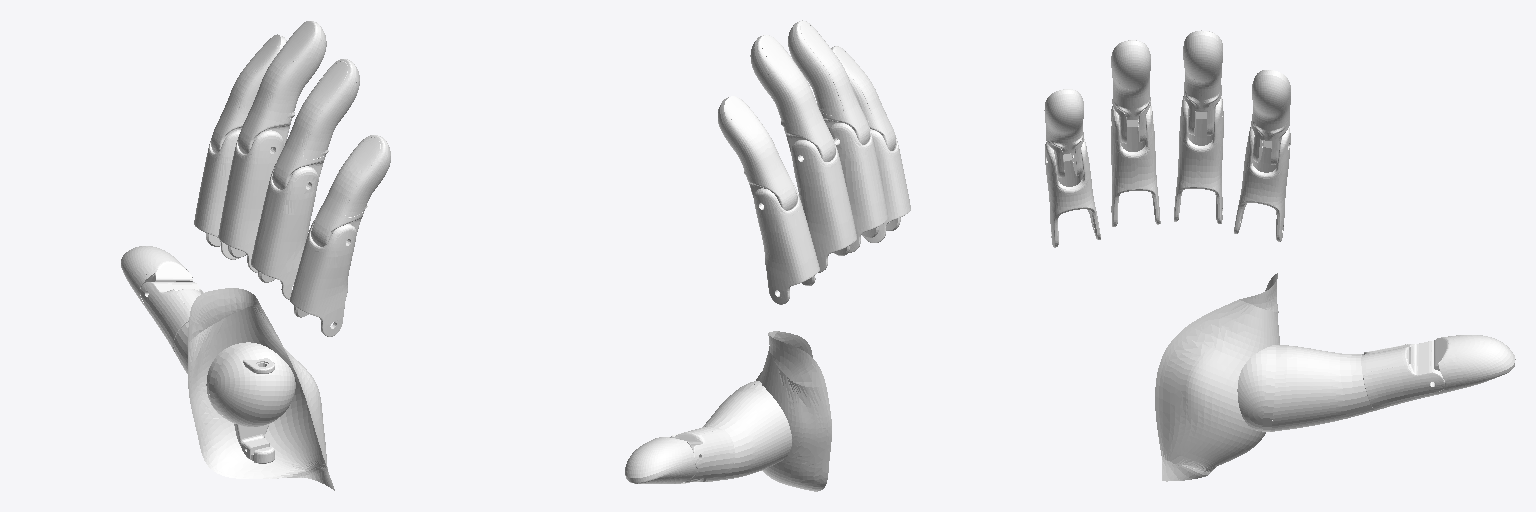
URDF robot description (brainco_revo2_righthand_urdf):
<robot name="brainco_revo2_righthand_urdf">
  <link name="right_base_link">
    <inertial>
      <origin xyz="-0.0052437813922142 -0.00340380255263376 0.0521266765719498" rpy="0 0 0" />
      <mass value="0.238" />
      <inertia ixx="2.10911666669912E-05" ixy="3.86322047662032E-08" ixz="9.36399145709391E-08" iyy="1.44621914759073E-05" iyz="-1.09576502000447E-06" izz="7.99811499549963E-06" />
    </inertial>
    <visual>
      <origin xyz="0 0 0" rpy="0 0 0" />
      <geometry>
        <mesh filename="../meshes/right_base_link.obj" />
      </geometry>
      <material name="">
        <color rgba="1 1 1 1" />
      </material>
    </visual>
  <visual>
      <origin xyz="0 0 0" rpy="0 0 0" />
      <geometry>
        <mesh filename="../meshes/right_base_visual_link.obj" />
      </geometry>
      <material name="">
        <color rgba="1 1 1 1" />
      </material>
    </visual>
    <collision><geometry><mesh filename="../meshes/right_base_link.obj" />
      </geometry></collision></link>
  <link name="right_thumb_metacarpal_link">
    <inertial>
      <origin xyz="1.51105893291953E-05 0.00707242532016975 -0.00420847293427094" rpy="0 0 0" />
      <mass value="0.01" />
      <inertia ixx="1.59239837111329E-07" ixy="-4.69100836631313E-09" ixz="4.92933775261579E-10" iyy="1.60913456568321E-07" iyz="-1.48146725871811E-08" izz="5.13550255314669E-08" />
    </inertial>
    <visual>
      <origin xyz="0 0 0" rpy="0 0 0" />
      <geometry>
        <mesh filename="../meshes/right_thumb_metacarpal_link.obj" />
      </geometry>
      <material name="">
        <color rgba="1 1 1 1" />
      </material>
    </visual>
    <collision><geometry><mesh filename="../meshes/right_thumb_metacarpal_link.obj" />
      </geometry></collision></link>
  <joint name="right_thumb_metacarpal_joint" type="revolute">
    <origin xyz="0.005619 0.019867 0.027825" rpy="0 0 -0.16787" />
    <parent link="right_base_link" />
    <child link="right_thumb_metacarpal_link" />
    <axis xyz="0 0 -1" />
    <limit lower="0" upper="1.57" effort="0.5" velocity="2.6175" />
  </joint>
  <link name="right_thumb_proximal_link">
    <inertial>
      <origin xyz="-4.69719500198473E-07 0.0277015013193164 -0.00202656319478134" rpy="0 0 0" />
      <mass value="0.05" />
      <inertia ixx="2.40451952538979E-06" ixy="-1.31092767621418E-10" ixz="8.32477243895752E-12" iyy="5.12323837647516E-07" iyz="-2.89154745634785E-08" izz="2.56254219597565E-06" />
    </inertial>
    <visual>
      <origin xyz="0 0 0" rpy="0 0 0" />
      <geometry>
        <mesh filename="../meshes/right_thumb_proximal_visual_link.obj" />
      </geometry>
      <material name="">
        <color rgba="1 1 1 1" />
      </material>
    </visual>
    <collision><geometry><mesh filename="../meshes/right_thumb_proximal_visual_link.obj" />
      </geometry></collision></link>
  <joint name="right_thumb_proximal_joint" type="revolute">
    <origin xyz="0 0.014227 0" rpy="0.17488 0.23736 0.16787" />
    <parent link="right_thumb_metacarpal_link" />
    <child link="right_thumb_proximal_link" />
    <axis xyz="1 0 0" />
    <limit lower="0" upper="1.03" effort="1.1" velocity="2.5303" />
  </joint>
  <link name="right_thumb_distal_link">
    <inertial>
      <origin xyz="-5.88258312894663E-09 0.0117544716247141 1.13324397438934E-05" rpy="0 0 0" />
      <mass value="0.01" />
      <inertia ixx="1.67793545309794E-07" ixy="7.1592784782531E-12" ixz="-6.80095370887263E-12" iyy="1.15362128819332E-07" iyz="1.2517499089377E-08" izz="2.19553178338424E-07" />
    </inertial>
    <visual>
      <origin xyz="0 0 0" rpy="0 0 0" />
      <geometry>
        <mesh filename="../meshes/right_thumb_distal_link.obj" />
      </geometry>
      <material name="">
        <color rgba="1 1 1 1" />
      </material>
    </visual>
    <collision><geometry><mesh filename="../meshes/right_thumb_distal_link.obj" />
      </geometry></collision></link>
  <joint name="right_thumb_distal_joint" type="revolute">
    <origin xyz="0 0.052 0" rpy="0 0 0" />
    <parent link="right_thumb_proximal_link" />
    <child link="right_thumb_distal_link" />
    <axis xyz="1 0 0" />
    <limit lower="0" upper="1.03" effort="1.1" velocity="2.5303" />
    <mimic joint="right_thumb_proximal_joint" multiplier="1" offset="0" />
  </joint>
  <link name="right_thumb_tip_link">
    </link>
  <joint name="right_thumb_tip_joint" type="fixed">
    <origin xyz="0 0.0265287811635831 -0.00177344281307929" rpy="-0.0667504507189062 0 0" />
    <parent link="right_thumb_distal_link" />
    <child link="right_thumb_tip_link" />
    <axis xyz="0 0 0" />
    </joint>
  <link name="right_thumb_touch_link">
    <inertial>
      <origin xyz="-1.1806027010175E-08 -0.00152252748962305 -0.00778417824955365" rpy="0 0 0" />
      <mass value="0.002" />
      <inertia ixx="1.67793545299225E-07" ixy="7.5594784738105E-12" ixz="-6.38541374289843E-12" iyy="1.14159537766499E-07" iyz="5.47195888787862E-09" izz="2.20755769355424E-07" />
    </inertial>
    <visual>
      <origin xyz="0 0 0" rpy="0 0 0" />
      <geometry>
        <mesh filename="../meshes/right_thumb_touch_link.obj" />
      </geometry>
      <material name="">
        <color rgba="1 1 1 1" />
      </material>
    </visual>
    <collision><geometry><mesh filename="../meshes/right_thumb_touch_link.obj" />
      </geometry></collision></link>
  <joint name="right_thumb_touch_joint" type="fixed">
    <origin xyz="0 0.0137927522748974 0.00767659940411662" rpy="-0.0667504507189062 0 0" />
    <parent link="right_thumb_distal_link" />
    <child link="right_thumb_touch_link" />
    <axis xyz="0 0 0" />
  </joint>
  <link name="right_index_proximal_link">
    <inertial>
      <origin xyz="-0.00223495193199565 3.15874577787312E-06 0.0176402020341366" rpy="0 0 0" />
      <mass value="0.009" />
      <inertia ixx="2.51945688372283E-07" ixy="1.19772964297278E-11" ixz="-6.37275644668917E-09" iyy="2.36435336139899E-07" iyz="1.65019165740599E-10" izz="9.30351046594029E-08" />
    </inertial>
    <visual>
      <origin xyz="0 0 0" rpy="0 0 0" />
      <geometry>
        <mesh filename="../meshes/right_index_proximal_link.obj" />
      </geometry>
      <material name="">
        <color rgba="1 1 1 1" />
      </material>
    </visual>
    <collision><geometry><mesh filename="../meshes/right_index_proximal_link.obj" />
      </geometry></collision></link>
  <joint name="right_index_proximal_joint" type="revolute">
    <origin xyz="-0.0021181 0.029568 0.080876" rpy="-0.11819 0.14743 -0.17422" />
    <parent link="right_base_link" />
    <child link="right_index_proximal_link" />
    <axis xyz="0 1 0" />
    <limit lower="0" upper="1.41" effort="2" velocity="2.2685" />
  </joint>
  <link name="right_index_distal_link">
    <inertial>
      <origin xyz="0.00330169965345207 1.80502678033545E-07 0.0142076903844267" rpy="0 0 0" />
      <mass value="0.009" />
      <inertia ixx="3.39968050760851E-07" ixy="-2.72439842925177E-12" ixz="-8.75041192697868E-08" iyy="3.62244794159632E-07" iyz="-3.69168934117452E-12" izz="9.1034511229316E-08" />
    </inertial>
    <visual>
      <origin xyz="0 0 0" rpy="0 0 0" />
      <geometry>
        <mesh filename="../meshes/right_index_distal_link.obj" />
      </geometry>
      <material name="">
        <color rgba="1 1 1 1" />
      </material>
    </visual>
    <collision><geometry><mesh filename="../meshes/right_index_distal_link.obj" />
      </geometry></collision></link>
  <joint name="right_index_distal_joint" type="revolute">
    <origin xyz="0 0 0.032" rpy="0 0 0" />
    <parent link="right_index_proximal_link" />
    <child link="right_index_distal_link" />
    <axis xyz="0 1 0" />
    <limit lower="0" upper="1.63" effort="2" velocity="2.2685" />
    <mimic joint="right_index_proximal_joint" multiplier="1.155" offset="0" />
  </joint>
  <link name="right_index_tip_link">
    </link>
  <joint name="right_index_tip_joint" type="fixed">
    <origin xyz="0.011097 0 0.035739" rpy="0 0.4756 0" />
    <parent link="right_index_distal_link" />
    <child link="right_index_tip_link" />
    <axis xyz="0 0 0" />
    </joint>
  <link name="right_index_touch_link">
    <inertial>
      <origin xyz="-0.00299911641156304 0.00249742609184543 -0.000361457745670764" rpy="0 0 0" />
      <mass value="0.002" />
      <inertia ixx="6.77691690725075E-09" ixy="1.49925053858217E-09" ixz="-2.16894115716066E-10" iyy="3.23801290825914E-09" iyz="3.14646833837905E-10" izz="5.36791538949697E-09" />
    </inertial>
    <visual>
      <origin xyz="0 0 0" rpy="0 0 0" />
      <geometry>
        <mesh filename="../meshes/right_index_touch_link.obj" />
      </geometry>
      <material name="">
        <color rgba="1 1 1 1" />
      </material>
    </visual>
    <collision><geometry><mesh filename="../meshes/right_index_touch_link.obj" />
      </geometry></collision></link>
  <joint name="right_index_touch_joint" type="fixed">
    <origin xyz="0.014497 0 0.023303" rpy="1.7145 0.4756 0" />
    <parent link="right_index_distal_link" />
    <child link="right_index_touch_link" />
    <axis xyz="0 0 0" />
  </joint>
  <link name="right_middle_proximal_link">
    <inertial>
      <origin xyz="-0.00222511101223747 5.25632286623237E-06 0.0203007776295123" rpy="0 0 0" />
      <mass value="0.009" />
      <inertia ixx="3.6699623719538E-07" ixy="2.68340899395639E-11" ixz="-9.79836587937102E-09" iyy="3.52645347928613E-07" iyz="2.5786558273981E-10" izz="1.12233932527467E-07" />
    </inertial>
    <visual>
      <origin xyz="0 0 0" rpy="0 0 0" />
      <geometry>
        <mesh filename="../meshes/right_middle_proximal_link.obj" />
      </geometry>
      <material name="">
        <color rgba="1 1 1 1" />
      </material>
    </visual>
    <collision><geometry><mesh filename="../meshes/right_middle_proximal_link.obj" />
      </geometry></collision></link>
  <joint name="right_middle_proximal_joint" type="revolute">
    <origin xyz="-0.0045767 0.010051 0.084993" rpy="-0.039468 0.1483 -0.057975" />
    <parent link="right_base_link" />
    <child link="right_middle_proximal_link" />
    <axis xyz="0 1 0" />
    <limit lower="0" upper="1.41" effort="2" velocity="2.2685" />
  </joint>
  <link name="right_middle_distal_link">
    <inertial>
      <origin xyz="0.00400815246049972 -2.93852058033672E-08 0.0164973984498919" rpy="0 0 0" />
      <mass value="0.009" />
      <inertia ixx="5.12550471641205E-07" ixy="2.4957446124327E-12" ixz="-1.36569370373267E-07" iyy="5.4982769389762E-07" iyz="1.1510593712868E-12" izz="1.23560211132881E-07" />
    </inertial>
    <visual>
      <origin xyz="0 0 0" rpy="0 0 0" />
      <geometry>
        <mesh filename="../meshes/right_middle_distal_link.obj" />
      </geometry>
      <material name="">
        <color rgba="1 1 1 1" />
      </material>
    </visual>
    <collision><geometry><mesh filename="../meshes/right_middle_distal_link.obj" />
      </geometry></collision></link>
  <joint name="right_middle_distal_joint" type="revolute">
    <origin xyz="0 0 0.037" rpy="0 0 0" />
    <parent link="right_middle_proximal_link" />
    <child link="right_middle_distal_link" />
    <axis xyz="0 1 0" />
    <limit lower="0" upper="1.63" effort="2" velocity="2.2685" />
    <mimic joint="right_middle_proximal_joint" multiplier="1.155" offset="0" />
  </joint>
  <link name="right_middle_tip_link">
    </link>
  <joint name="right_middle_tip_joint" type="fixed">
    <origin xyz="0.012558 0 0.040442" rpy="0 0.4756 0" />
    <parent link="right_middle_distal_link" />
    <child link="right_middle_tip_link" />
    <axis xyz="0 0 0" />
    </joint>
  <link name="right_middle_touch_link">
    <inertial>
      <origin xyz="-0.00319289171453651 -1.92251098651841E-08 0.00297860354010647" rpy="0 0 0" />
      <mass value="0.002" />
      <inertia ixx="1.00486658585813E-08" ixy="-7.87051809312931E-14" ixz="2.25917784171234E-09" iyy="8.23228109049258E-09" iyz="1.50825328552765E-13" izz="4.41272192206512E-09" />
    </inertial>
    <visual>
      <origin xyz="0 0 0" rpy="0 0 0" />
      <geometry>
        <mesh filename="../meshes/right_middle_touch_link.obj" />
      </geometry>
      <material name="">
        <color rgba="1 1 1 1" />
      </material>
    </visual>
    <collision><geometry><mesh filename="../meshes/right_middle_touch_link.obj" />
      </geometry></collision></link>
  <joint name="right_middle_touch_joint" type="fixed">
    <origin xyz="0.015975871997898 0 0.0265894268903603" rpy="0 0.475602221168456 0" />
    <parent link="right_middle_distal_link" />
    <child link="right_middle_touch_link" />
    <axis xyz="0 0 0" />
  </joint>
  <link name="right_ring_proximal_link">
    <inertial>
      <origin xyz="-0.00234494526421452 5.87954755621161E-06 0.019177402549597" rpy="0 0 0" />
      <mass value="0.009" />
      <inertia ixx="3.14177684848335E-07" ixy="3.34382331089976E-11" ixz="-7.78981780892183E-09" iyy="2.97613170150896E-07" iyz="2.41251871804457E-10" izz="1.0211543233675E-07" />
    </inertial>
    <visual>
      <origin xyz="0 0 0" rpy="0 0 0" />
      <geometry>
        <mesh filename="../meshes/right_ring_proximal_link.obj" />
      </geometry>
      <material name="">
        <color rgba="1 1 1 1" />
      </material>
    </visual>
    <collision><geometry><mesh filename="../meshes/right_ring_proximal_link.obj" />
      </geometry></collision></link>
  <joint name="right_ring_proximal_joint" type="revolute">
    <origin xyz="-0.0046709 -0.010037 0.083982" rpy="0.039462 0.14721 0.057932" />
    <parent link="right_base_link" />
    <child link="right_ring_proximal_link" />
    <axis xyz="0 1 0" />
    <limit lower="0" upper="1.41" effort="2" velocity="2.2685" />
  </joint>
  <link name="right_ring_distal_link">
    <inertial>
      <origin xyz="0.00382459959210406 7.8017874437751E-08 0.0160343764410312" rpy="0 0 0" />
      <mass value="0.009" />
      <inertia ixx="4.71792497420504E-07" ixy="-6.95225674723301E-13" ixz="-1.26948440940938E-07" iyy="5.06071998616974E-07" iyz="-2.19413968646526E-12" izz="1.15762768100302E-07" />
    </inertial>
    <visual>
      <origin xyz="0 0 0" rpy="0 0 0" />
      <geometry>
        <mesh filename="../meshes/right_ring_distal_link.obj" />
      </geometry>
      <material name="">
        <color rgba="1 1 1 1" />
      </material>
    </visual>
    <collision><geometry><mesh filename="../meshes/right_ring_distal_link.obj" />
      </geometry></collision></link>
  <joint name="right_ring_distal_joint" type="revolute">
    <origin xyz="0 0 0.035" rpy="0 0 0" />
    <parent link="right_ring_proximal_link" />
    <child link="right_ring_distal_link" />
    <axis xyz="0 1 0" />
    <limit lower="0" upper="1.63" effort="2" velocity="2.2685" />
    <mimic joint="right_ring_proximal_joint" multiplier="1.155" offset="0" />
  </joint>
  <link name="right_ring_tip_link">
    </link>
  <joint name="right_ring_tip_joint" type="fixed">
    <origin xyz="0.012266 0 0.039501" rpy="0 0.4756 0" />
    <parent link="right_ring_distal_link" />
    <child link="right_ring_tip_link" />
    <axis xyz="0 0 0" />
    </joint>
  <link name="right_ring_touch_link">
    <inertial>
      <origin xyz="-0.00302345770059939 -4.42584829375703E-08 0.0030407600788087" rpy="0 0 0" />
      <mass value="0.002" />
      <inertia ixx="8.20180993934663E-09" ixy="-2.63295949836146E-14" ixz="1.83211342144402E-09" iyy="6.63652036961065E-09" iyz="1.12534283673606E-13" izz="3.61925974724395E-09" />
    </inertial>
    <visual>
      <origin xyz="0 0 0" rpy="0 0 0" />
      <geometry>
        <mesh filename="../meshes/right_ring_touch_link.obj" />
      </geometry>
      <material name="">
        <color rgba="1 1 1 1" />
      </material>
    </visual>
    <collision><geometry><mesh filename="../meshes/right_ring_touch_link.obj" />
      </geometry></collision></link>
  <joint name="right_ring_touch_joint" type="fixed">
    <origin xyz="0.0154392324697935 0 0.0260561041381566" rpy="0 0.475602221168648 0" />
    <parent link="right_ring_distal_link" />
    <child link="right_ring_touch_link" />
    <axis xyz="0 0 0" />
  </joint>
  <link name="right_pinky_proximal_link">
    <inertial>
      <origin xyz="-0.00213212021184178 7.75039446098032E-06 0.0160671583560383" rpy="0 0 0" />
      <mass value="0.009" />
      <inertia ixx="1.97563213550085E-07" ixy="2.23402433057963E-11" ixz="-4.58425663692079E-09" iyy="1.82023043083307E-07" iyz="1.08028441152494E-10" izz="8.21624712033168E-08" />
    </inertial>
    <visual>
      <origin xyz="0 0 0" rpy="0 0 0" />
      <geometry>
        <mesh filename="../meshes/right_pinky_proximal_link.obj" />
      </geometry>
      <material name="">
        <color rgba="1 1 1 1" />
      </material>
    </visual>
    <collision><geometry><mesh filename="../meshes/right_pinky_proximal_link.obj" />
      </geometry></collision></link>
  <joint name="right_pinky_proximal_joint" type="revolute">
    <origin xyz="-0.0023566 -0.029366 0.078694" rpy="0.11815 0.14491 0.17392" />
    <parent link="right_base_link" />
    <child link="right_pinky_proximal_link" />
    <axis xyz="0 1 0" />
    <limit lower="0" upper="1.41" effort="2" velocity="2.2685" />
  </joint>
  <link name="right_pinky_distal_link">
    <inertial>
      <origin xyz="0.00307974197235919 -1.54572112227858E-07 0.0130246967256256" rpy="0 0 0" />
      <mass value="0.009" />
      <inertia ixx="2.70050429038431E-07" ixy="1.68029751000565E-12" ixz="-6.70780254430148E-08" iyy="2.85275081521347E-07" iyz="5.10635117768255E-12" izz="7.90798706854226E-08" />
    </inertial>
    <visual>
      <origin xyz="0 0 0" rpy="0 0 0" />
      <geometry>
        <mesh filename="../meshes/right_pinky_distal_link.obj" />
      </geometry>
      <material name="">
        <color rgba="1 1 1 1" />
      </material>
    </visual>
    <collision><geometry><mesh filename="../meshes/right_pinky_distal_link.obj" />
      </geometry></collision></link>
  <joint name="right_pinky_distal_joint" type="revolute">
    <origin xyz="0 0 0.029" rpy="0 0 0" />
    <parent link="right_pinky_proximal_link" />
    <child link="right_pinky_distal_link" />
    <axis xyz="0 1 0" />
    <limit lower="0" upper="1.63" effort="2" velocity="2.2685" />
    <mimic joint="right_pinky_proximal_joint" multiplier="1.155" offset="0" />
  </joint>
  <link name="right_pinky_tip_link">
    </link>
  <joint name="right_pinky_tip_joint" type="fixed">
    <origin xyz="0.010221 0 0.032918" rpy="0 0.4756 0" />
    <parent link="right_pinky_distal_link" />
    <child link="right_pinky_tip_link" />
    <axis xyz="0 0 0" />
    </joint>
  <link name="right_pinky_touch_link">
    <inertial>
      <origin xyz="-0.00289142401155668 -2.00563398826403E-07 0.00165387959177493" rpy="0 0 0" />
      <mass value="0.002" />
      <inertia ixx="6.91911795672566E-09" ixy="1.21758056374209E-13" ixz="1.42748611971717E-09" iyy="5.34364749688619E-09" iyz="7.16346527443829E-14" izz="3.28289727389894E-09" />
    </inertial>
    <visual>
      <origin xyz="0 0 0" rpy="0 0 0" />
      <geometry>
        <mesh filename="../meshes/right_pinky_touch_link.obj" />
      </geometry>
      <material name="">
        <color rgba="1 1 1 1" />
      </material>
    </visual>
    <collision><geometry><mesh filename="../meshes/right_pinky_touch_link.obj" />
      </geometry></collision></link>
  <joint name="right_pinky_touch_joint" type="fixed">
    <origin xyz="0.01401 0 0.021124" rpy="0 0.4756 0" />
    <parent link="right_pinky_distal_link" />
    <child link="right_pinky_touch_link" />
    <axis xyz="0 0 0" />
  </joint>
</robot>

--- Render facts (derived) ---
The picture shows the robot from 3 angles, left to right: view 1: azimuth 30°, elevation 25°; view 2: azimuth 150°, elevation 25°; view 3: azimuth 270°, elevation 25°; orthographic projection.
Robot: brainco_revo2_righthand_urdf — 22 links, 21 joints (11 revolute, 10 fixed); root link right_base_link; default pose: every joint at zero.
Visible links, largest first — view 1: right_base_link, right_thumb_proximal_link, right_ring_proximal_link, right_middle_distal_link, right_ring_distal_link, right_middle_proximal_link, right_pinky_proximal_link, right_pinky_distal_link, right_index_proximal_link, right_index_distal_link, right_thumb_metacarpal_link, right_thumb_touch_link (+1 smaller); view 2: right_base_link, right_thumb_proximal_link, right_middle_proximal_link, right_index_proximal_link, right_middle_distal_link, right_ring_distal_link, right_index_distal_link, right_ring_proximal_link, right_thumb_touch_link, right_pinky_proximal_link, right_pinky_distal_link; view 3: right_base_link, right_thumb_proximal_link, right_middle_proximal_link, right_ring_proximal_link, right_index_proximal_link, right_thumb_touch_link, right_pinky_proximal_link, right_ring_distal_link, right_middle_distal_link, right_index_distal_link, right_pinky_distal_link, right_middle_touch_link (+3 smaller).
Link boxes in pixels (x1,y1,x2,y2): right_base_link: [188, 288, 334, 490]; right_thumb_proximal_link: [140, 282, 295, 426]; right_ring_proximal_link: [251, 164, 317, 299]; right_middle_distal_link: [238, 21, 321, 153]; right_ring_distal_link: [272, 59, 356, 189]; right_middle_proximal_link: [218, 130, 283, 272]; right_pinky_proximal_link: [290, 218, 356, 336]; right_pinky_distal_link: [311, 135, 388, 246]; right_index_proximal_link: [194, 130, 240, 259]; right_index_distal_link: [211, 34, 285, 153]; right_thumb_metacarpal_link: [234, 358, 274, 463]; right_thumb_touch_link: [121, 246, 186, 291]; right_base_link: [756, 331, 831, 491]; right_thumb_proximal_link: [670, 381, 791, 482]; right_middle_proximal_link: [791, 137, 856, 272]; right_index_proximal_link: [754, 182, 819, 304]; right_middle_distal_link: [754, 35, 835, 161]; right_ring_distal_link: [792, 20, 869, 144]; right_index_distal_link: [720, 96, 796, 210]; right_ring_proximal_link: [829, 123, 887, 252]; right_thumb_touch_link: [625, 437, 690, 483]; right_pinky_proximal_link: [864, 129, 910, 242]; right_pinky_distal_link: [831, 46, 895, 150]; right_base_link: [1155, 273, 1279, 481]; right_thumb_proximal_link: [1237, 341, 1444, 431]; right_middle_proximal_link: [1174, 96, 1223, 223]; right_ring_proximal_link: [1111, 106, 1160, 226]; right_index_proximal_link: [1234, 126, 1290, 241]; right_thumb_touch_link: [1443, 335, 1515, 387]; right_pinky_proximal_link: [1045, 139, 1100, 247]; right_ring_distal_link: [1111, 40, 1150, 143]; right_middle_distal_link: [1183, 30, 1222, 135]; right_index_distal_link: [1251, 70, 1290, 164]; right_pinky_distal_link: [1044, 89, 1083, 177]; right_middle_touch_link: [1184, 34, 1220, 81].
Size in the robot's own frame: 0.0401 by 0.1508 by 0.1591 metres.
Meshes: 18 distinct files referenced, 17 mesh visuals loaded (17 OBJ); not drawn: 1 (reference not matched to a file when rendering).
